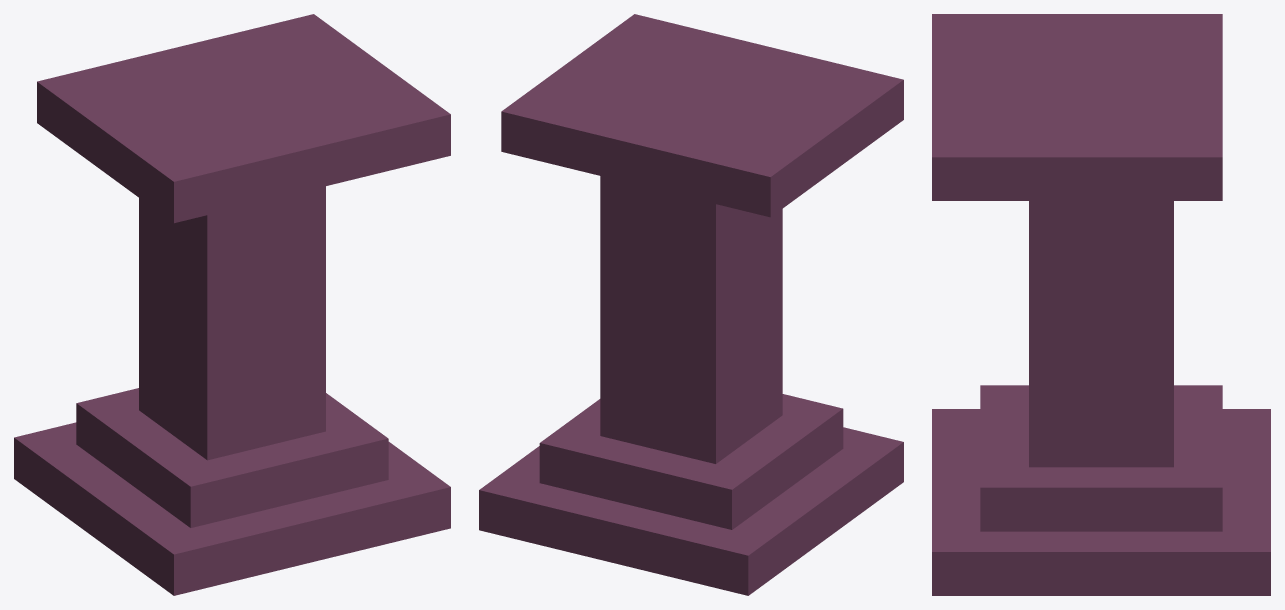
Rendered from altar_c_a.obj.
3 views of the same model, side by side, from view 1: azimuth 30°, elevation 25°; view 2: azimuth 150°, elevation 25°; view 3: azimuth 270°, elevation 25° (orthographic). The views are drawn at different scales.
Size of the model in its own units: 0.7 by 1 by 0.7.
Materials: 1 (1 with a texture image).
